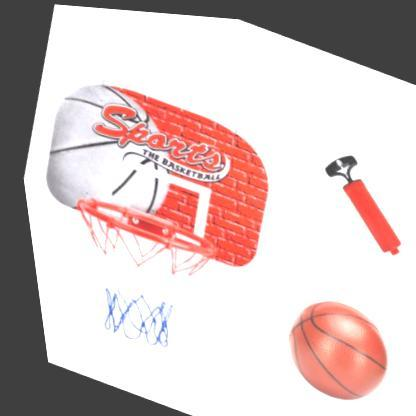basketball: (260, 278, 398, 412)
rim: (35, 187, 222, 363)
